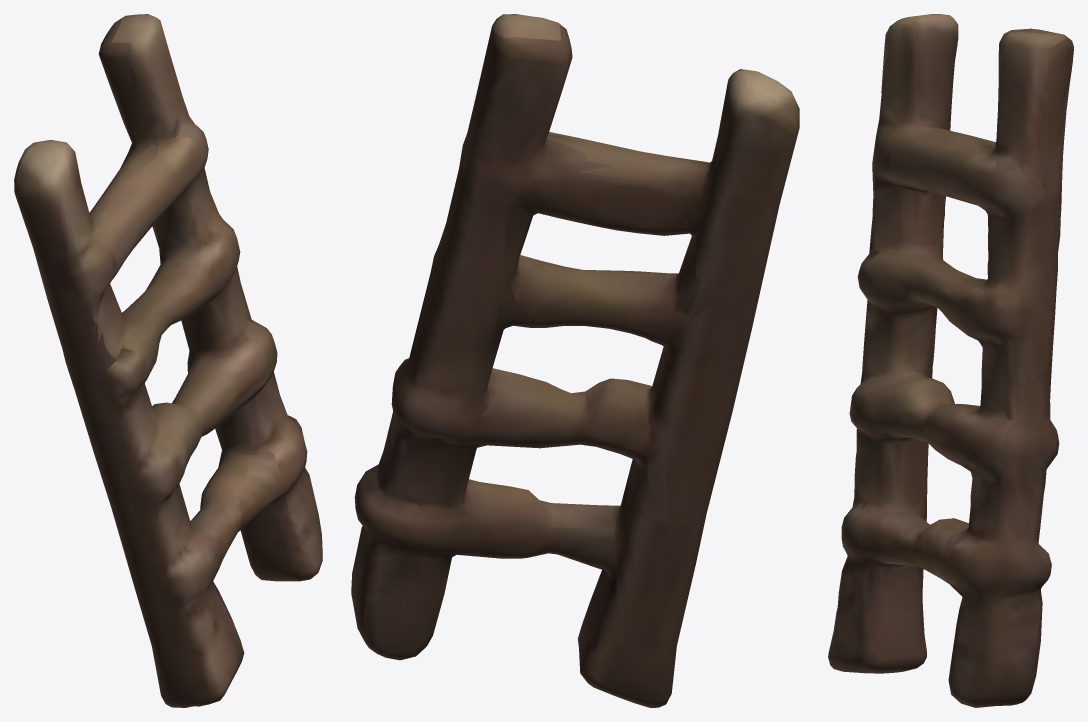
Rendered from v15_escada_mao.glb.
3 renders of one model, left to right at view 1: azimuth 30°, elevation 25°; view 2: azimuth 150°, elevation 25°; view 3: azimuth 270°, elevation 25°, orthographic. The views are drawn at different scales.
Parts seen in each view (by area): view 1: v15_escada_mao; view 2: v15_escada_mao; view 3: v15_escada_mao.
Boxes of the visible parts, left/top/right/bottom form: v15_escada_mao: left=14, top=14, right=322, bottom=707; v15_escada_mao: left=351, top=14, right=799, bottom=707; v15_escada_mao: left=828, top=14, right=1073, bottom=707.
Bounding box in the file's own units: 0.3371 × 0.5958 × 0.2006.
Materials: 1 (1 with a texture image).
